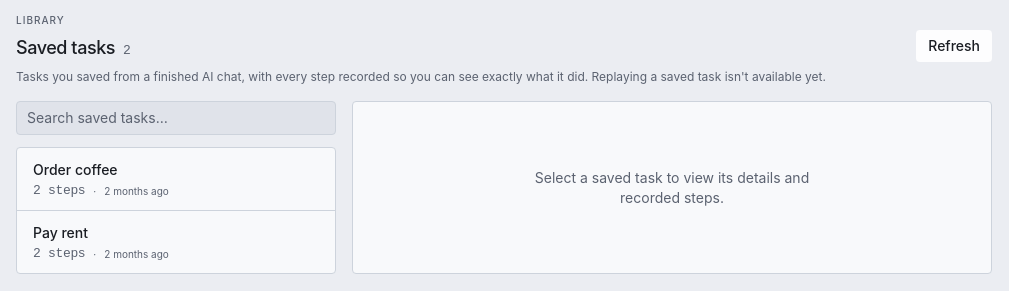
Test: RecipesView detail half › CRITICAL a detail fetch failure shows humanised copy, never the raw error
Step 1. Click the button "Order coffee 2 steps · 2 months ago" → (75, 170), box [17,148,335,210]
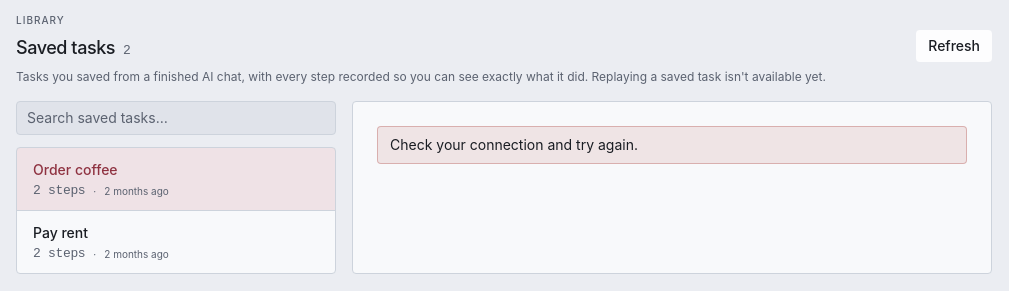
Expected: the text "Check your connection and try again." is shown, [377,126,967,164]
